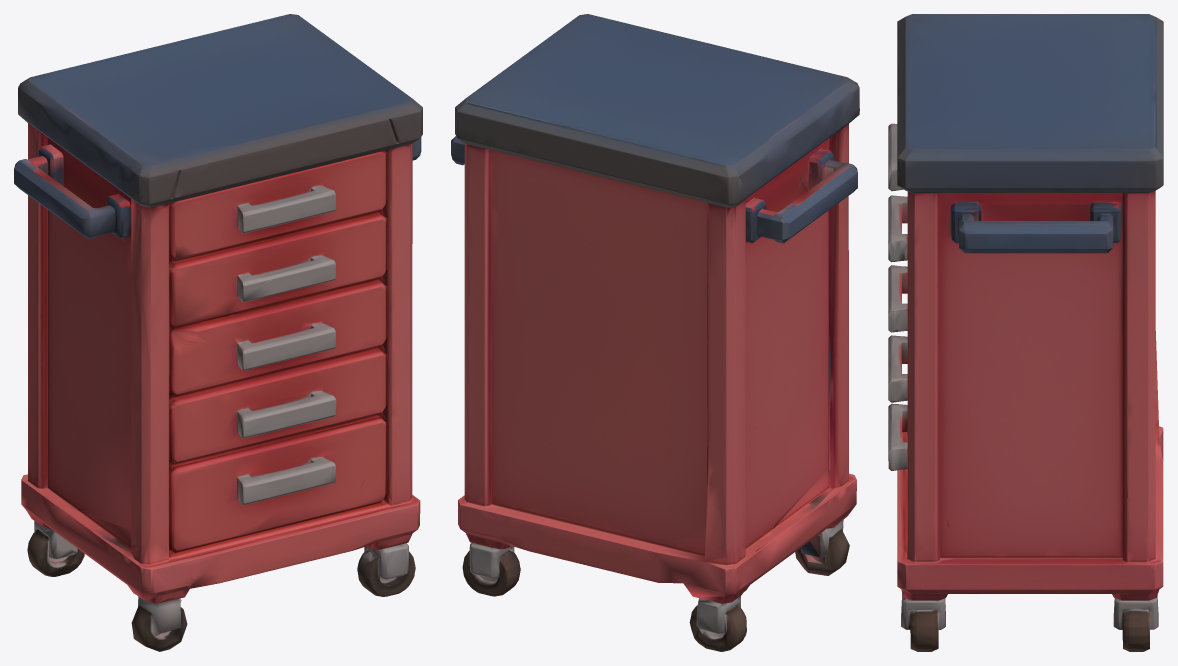
Rendered from ToolCabinet.fbx.
3 renders of one model, left to right at view 1: azimuth 30°, elevation 25°; view 2: azimuth 150°, elevation 25°; view 3: azimuth 270°, elevation 25°, orthographic. The views are drawn at different scales.
Parts seen in each view (by area): view 1: texture_pbr_v128; view 2: texture_pbr_v128; view 3: texture_pbr_v128.
Boxes of the visible parts, x1,y1,x2,y2 form: texture_pbr_v128: (14,14,422,651); texture_pbr_v128: (451,14,859,651); texture_pbr_v128: (888,14,1163,651).
Bounding box in the file's own units: 69.95 × 97.26 × 47.7.
1 material, 1 textured.
